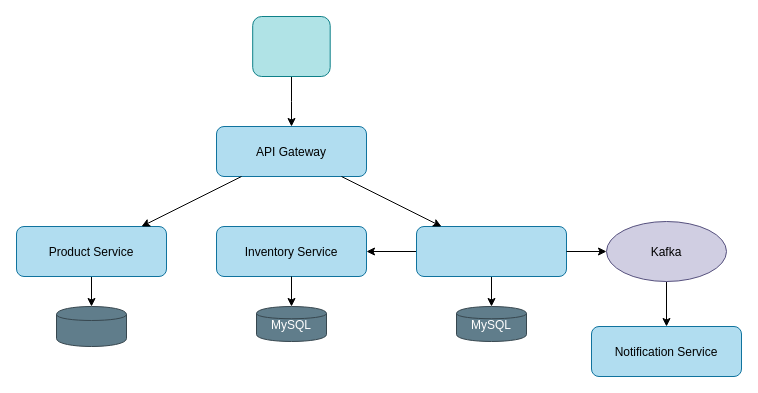
This 758x393 diagram has some shape labels left out. Here are the shapes that lost their labels. From the top down, the box of each, then its label:
(252, 16, 330, 76): Client
(416, 226, 566, 276): Order Service
(56, 306, 126, 346): MongoDB
